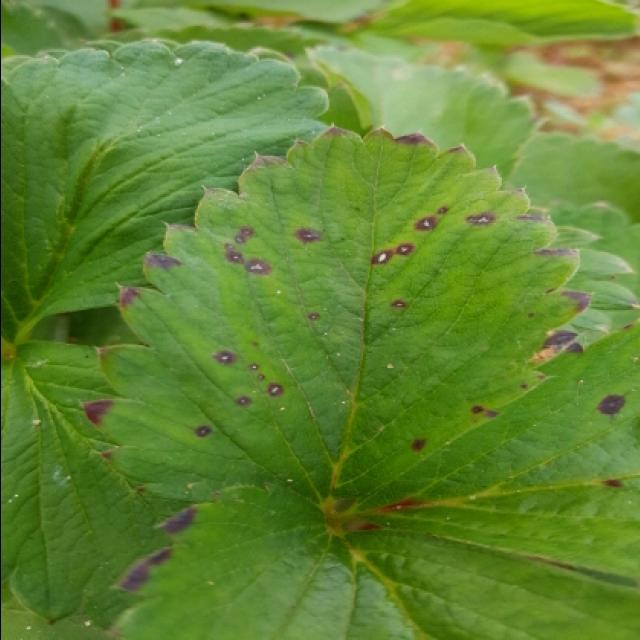Leaf Spot: (78, 125, 595, 518), (346, 319, 640, 580)
